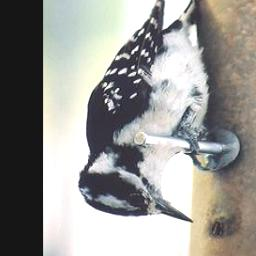Woodpecker: (77, 0, 218, 224)
